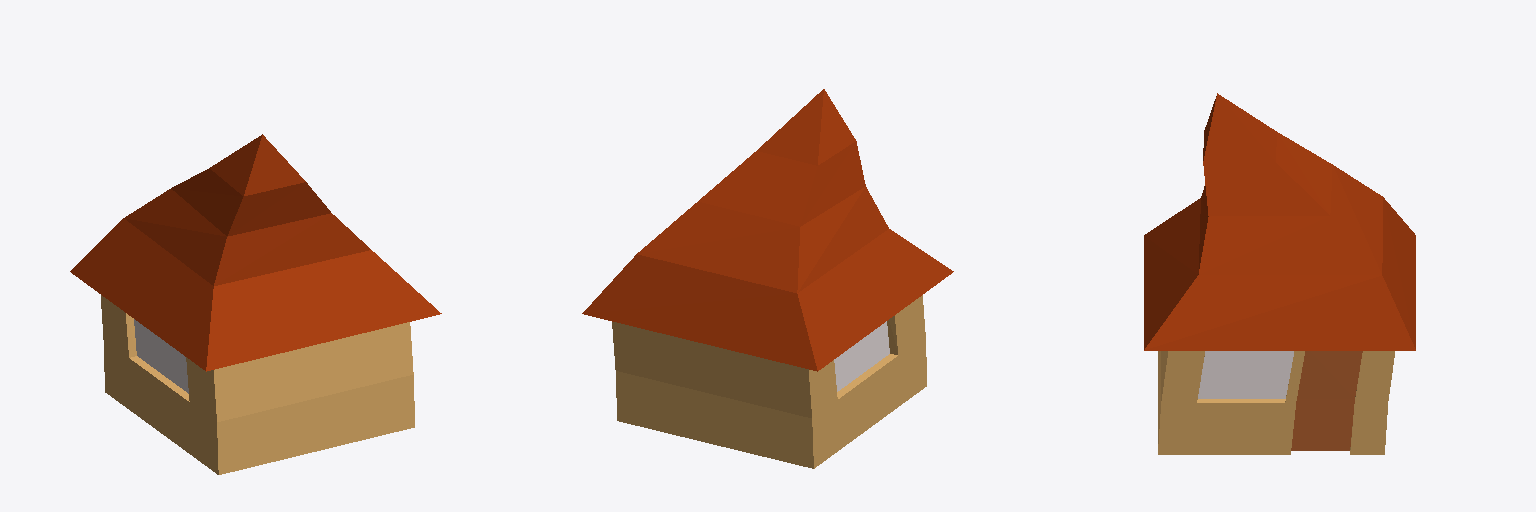
3 renders of one model, left to right at view 1: azimuth 30°, elevation 25°; view 2: azimuth 150°, elevation 25°; view 3: azimuth 270°, elevation 25°, orthographic.
Parts seen in each view (by area): view 1: Cube_house; view 2: Cube_house; view 3: Cube_house.
Boxes of the visible parts, x1=… form: Cube_house: x1=70, y1=134, x2=441, y2=474; Cube_house: x1=582, y1=89, x2=953, y2=468; Cube_house: x1=1144, y1=93, x2=1415, y2=454.
Size of the model in its own units: 4.8 by 5.86 by 4.8.
1 materials, 1 textured.